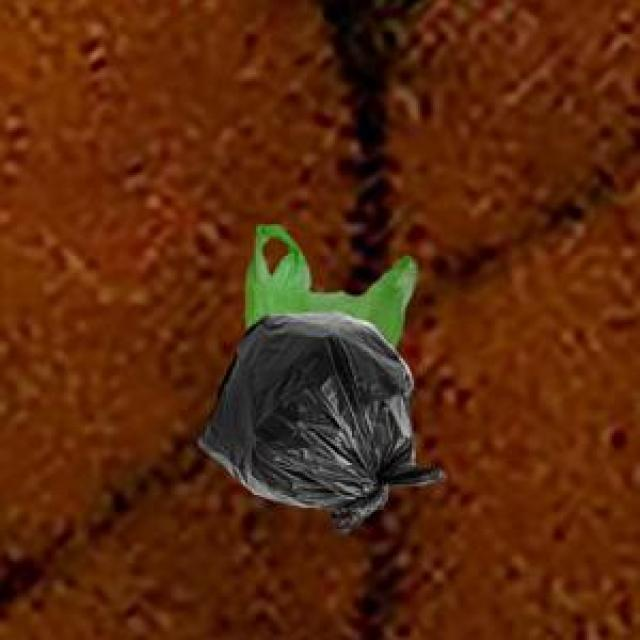miscellaneous trash: (194, 307, 442, 529)
